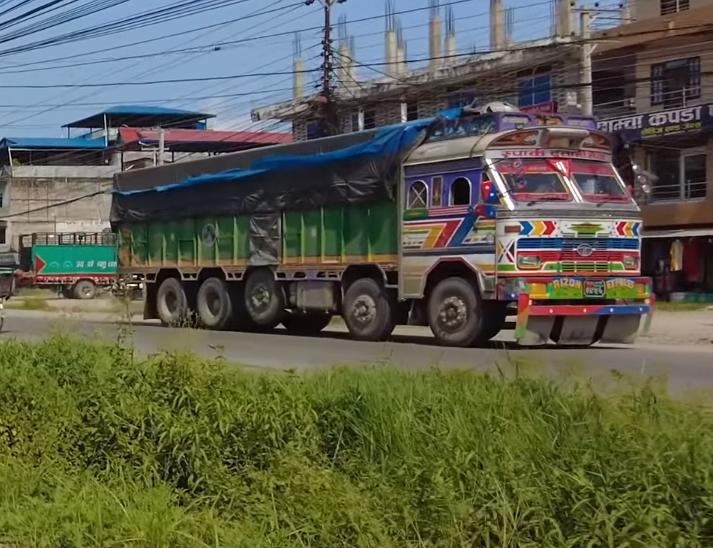truck: (107, 99, 654, 347), (13, 227, 135, 301)
